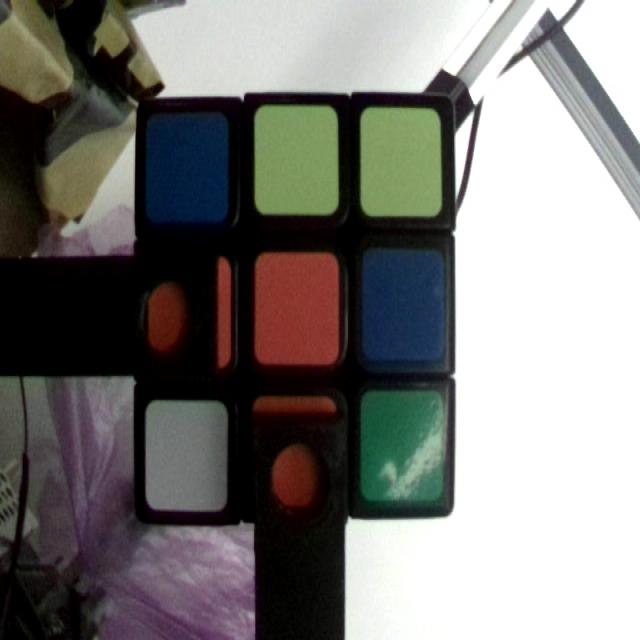b: (145, 108, 233, 220), (360, 249, 446, 356)
g: (364, 395, 444, 505)
o: (254, 396, 334, 513), (147, 260, 231, 366), (258, 257, 339, 364)
w: (149, 397, 228, 515)
y: (358, 102, 442, 216), (256, 102, 336, 214)
